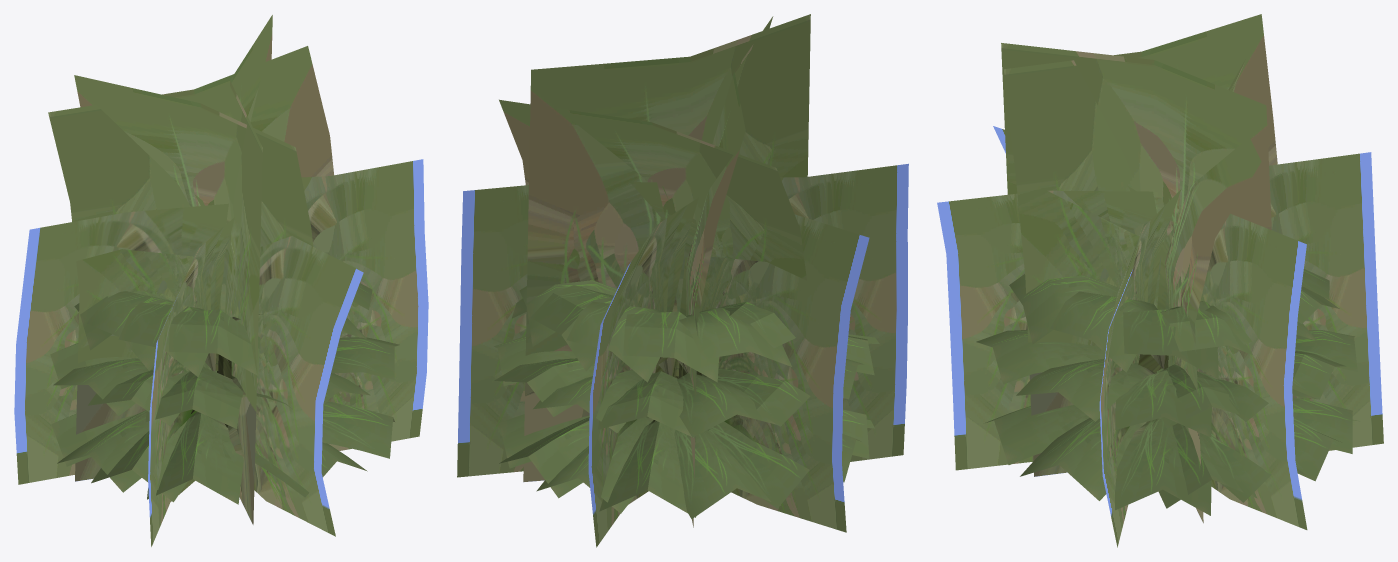
The model's file is Grass.glb.
3 renders of one model, left to right at view 1: azimuth 30°, elevation 25°; view 2: azimuth 150°, elevation 25°; view 3: azimuth 270°, elevation 25°, orthographic. The views are drawn at different scales.
Parts seen in each view (by area): view 1: Grass_001; view 2: Grass_001; view 3: Grass_001.
Boxes of the visible parts, x1=… form: Grass_001: x1=14, y1=15, x2=428, y2=546; Grass_001: x1=457, y1=14, x2=908, y2=547; Grass_001: x1=937, y1=14, x2=1383, y2=547.
Bounding box in the file's own units: 0.5296 × 0.5404 × 0.5354.
1 material, 1 textured.
